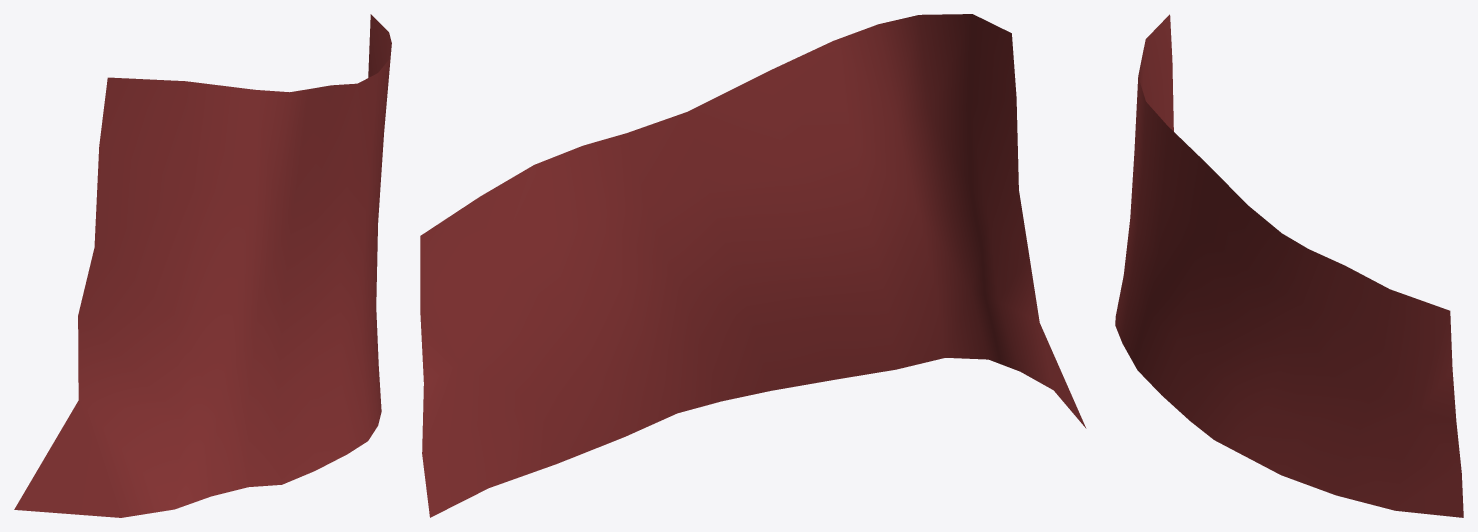
Rendered from superior-extensor-retinaculum-of-ankle-l.glb.
The picture shows the model from 3 angles, left to right: view 1: azimuth 30°, elevation 25°; view 2: azimuth 150°, elevation 25°; view 3: azimuth 270°, elevation 25°; orthographic projection. The views are drawn at different scales.
Parts seen in each view (by area): view 1: Superior extensor retinaculum of ankle.l; view 2: Superior extensor retinaculum of ankle.l; view 3: Superior extensor retinaculum of ankle.l.
Boxes of the visible parts, x1,y1,x2,y2 form: Superior extensor retinaculum of ankle.l: (14,14,391,517); Superior extensor retinaculum of ankle.l: (420,14,1086,517); Superior extensor retinaculum of ankle.l: (1115,14,1463,517).
Size of the model in its own units: 0.0365 by 0.0315 by 0.0283.
